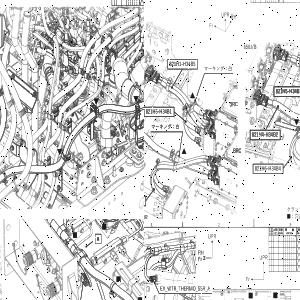PartNumber: (144, 108, 172, 115), (169, 61, 196, 68), (252, 131, 278, 138), (254, 165, 282, 171), (275, 88, 300, 94)
